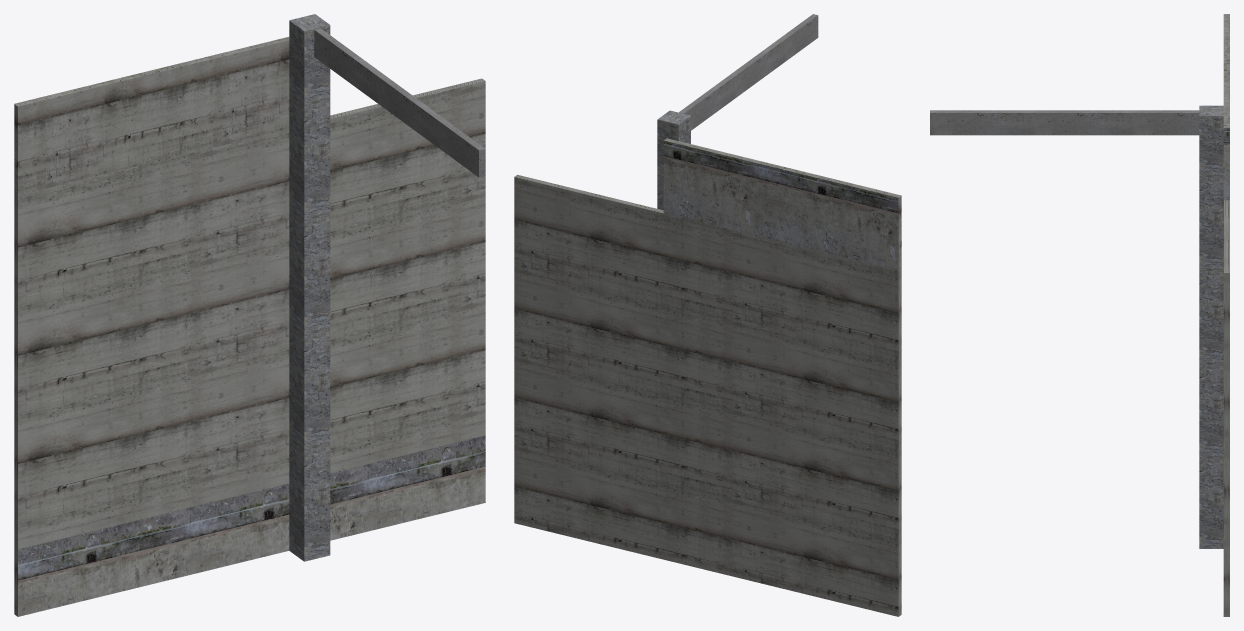
File: Broken_House_Part.FBX
3 renders of one model, left to right at view 1: azimuth 30°, elevation 25°; view 2: azimuth 150°, elevation 25°; view 3: azimuth 270°, elevation 25°, orthographic. The views are drawn at different scales.
Parts seen in each view (by area): view 1: Broken_House_Part, Broken_House_Part_1, Broken_House_Part_2; view 2: Broken_House_Part, Broken_House_Part_2, Broken_House_Part_1; view 3: Broken_House_Part_1, Broken_House_Part_2, Broken_House_Part.
Part boxes in pixels (x1,y1,x2,y2): Broken_House_Part: [14, 37, 485, 616]; Broken_House_Part_1: [289, 14, 330, 561]; Broken_House_Part_2: [314, 28, 485, 177]; Broken_House_Part: [514, 138, 901, 616]; Broken_House_Part_2: [679, 14, 818, 130]; Broken_House_Part_1: [657, 110, 690, 210]; Broken_House_Part_1: [1199, 105, 1223, 548]; Broken_House_Part_2: [930, 110, 1199, 135]; Broken_House_Part: [1223, 14, 1229, 616].
Size of the model in its own units: 648 by 702 by 441.
